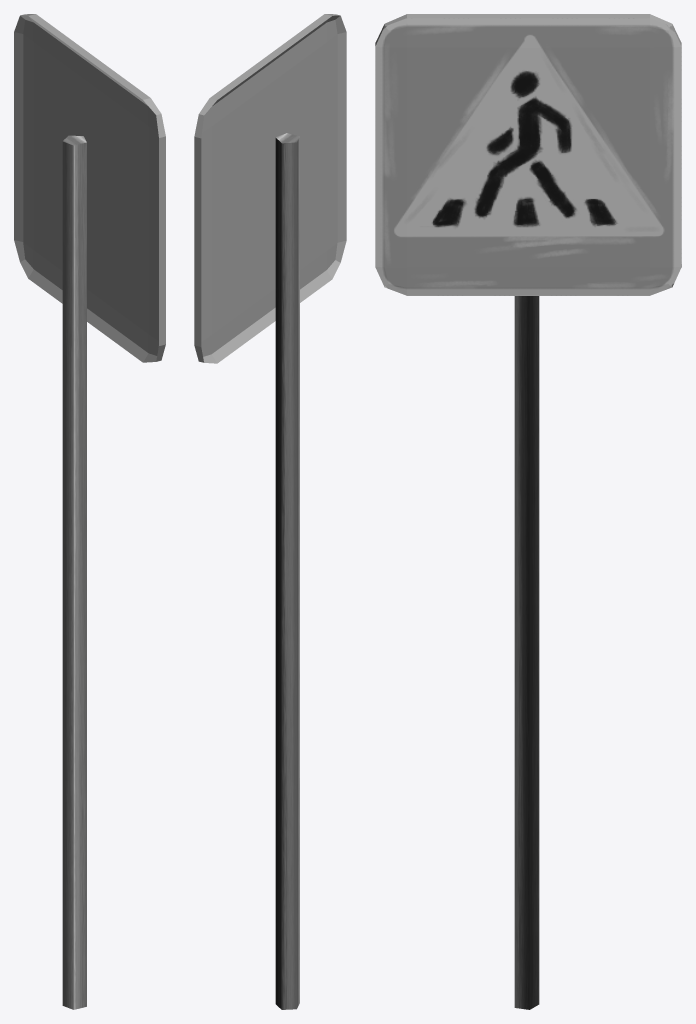
File: sign_cross.fbx
The picture shows the model from 3 angles, left to right: view 1: azimuth 30°, elevation 25°; view 2: azimuth 150°, elevation 25°; view 3: azimuth 270°, elevation 25°; orthographic projection. The views are drawn at different scales.
Visible parts, largest first — view 1: Cube.013, Cylinder.001; view 2: Cube.013, Cylinder.001; view 3: Cube.013, Cylinder.001.
Boxes of the visible parts, x1,y1,x2,y2 form: Cube.013: (14,14,165,362); Cylinder.001: (62,135,86,1009); Cube.013: (194,14,346,363); Cylinder.001: (275,133,299,1009); Cube.013: (375,14,681,295); Cylinder.001: (514,296,539,1009).
Size of the model in its own units: 37.48 by 1076 by 300.
